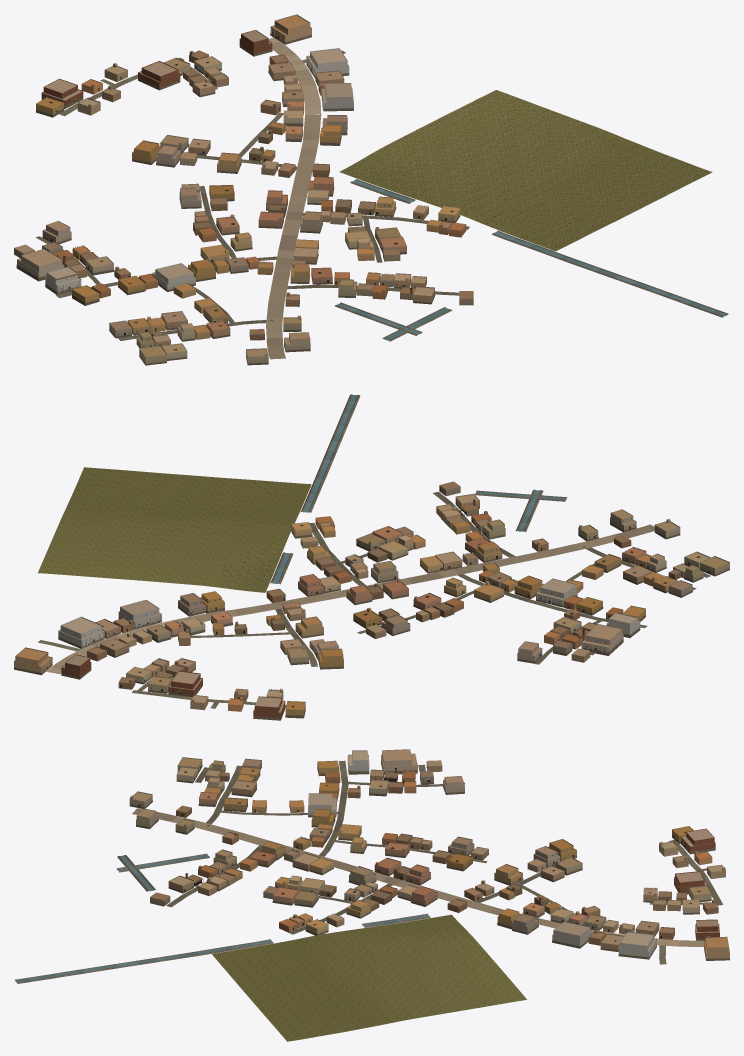
File: uruk_quarter_16.glb
3 renders of one model, top to bottom at view 1: azimuth 30°, elevation 25°; view 2: azimuth 150°, elevation 25°; view 3: azimuth 270°, elevation 25°, orthographic. The views are drawn at different scales.
Parts seen in each view (by area): view 1: uruk_quarter_16; view 2: uruk_quarter_16; view 3: uruk_quarter_16.
Part boxes in pixels (x1,y1,x2,y2): uruk_quarter_16: (14, 14, 728, 365); uruk_quarter_16: (14, 394, 729, 720); uruk_quarter_16: (14, 749, 729, 1041).
Bounding box in the file's own units: 445 × 15.58 × 488.
17 materials, 6 textured.
